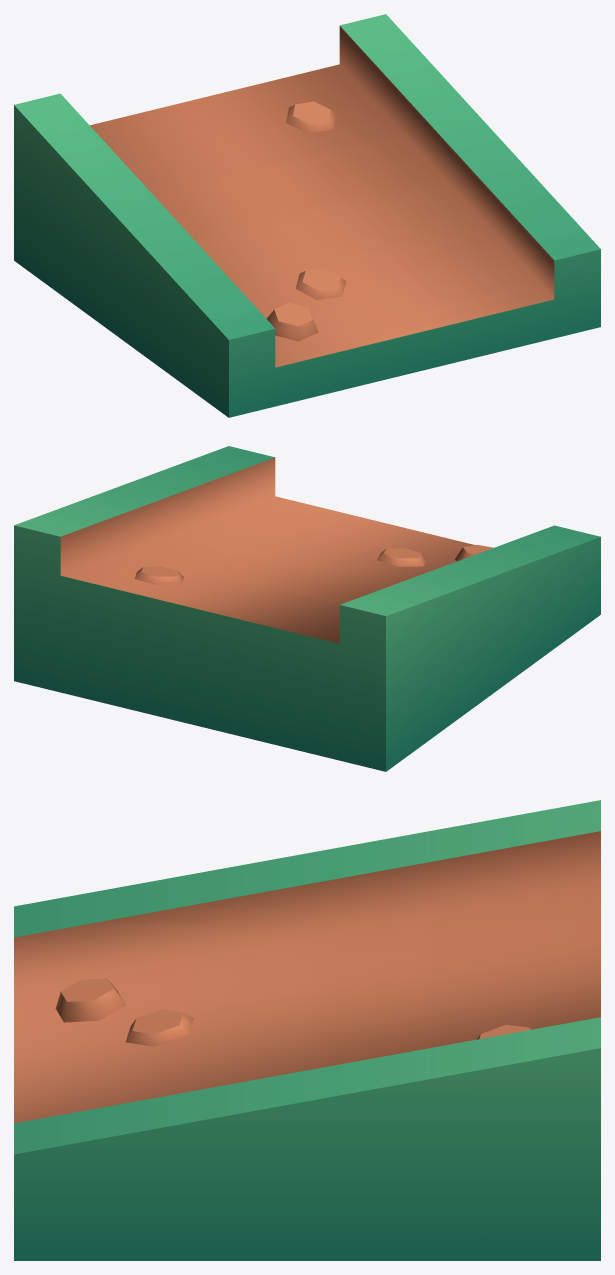
The model's file is kenney-tower-defense-tile-straight-slope.glb.
The picture shows the model from 3 angles, top to bottom: view 1: azimuth 30°, elevation 25°; view 2: azimuth 150°, elevation 25°; view 3: azimuth 270°, elevation 25°; orthographic projection. The views are drawn at different scales.
Visible parts, largest first — view 1: tile-straight-slope; view 2: tile-straight-slope; view 3: tile-straight-slope.
Part boxes in pixels (x1=…): tile-straight-slope: x1=14, y1=14, x2=600, y2=417; tile-straight-slope: x1=14, y1=446, x2=600, y2=771; tile-straight-slope: x1=14, y1=800, x2=600, y2=1260.
Bounding box in the file's own units: 1 × 0.3999 × 1.
Materials: 1 (1 with a texture image).
